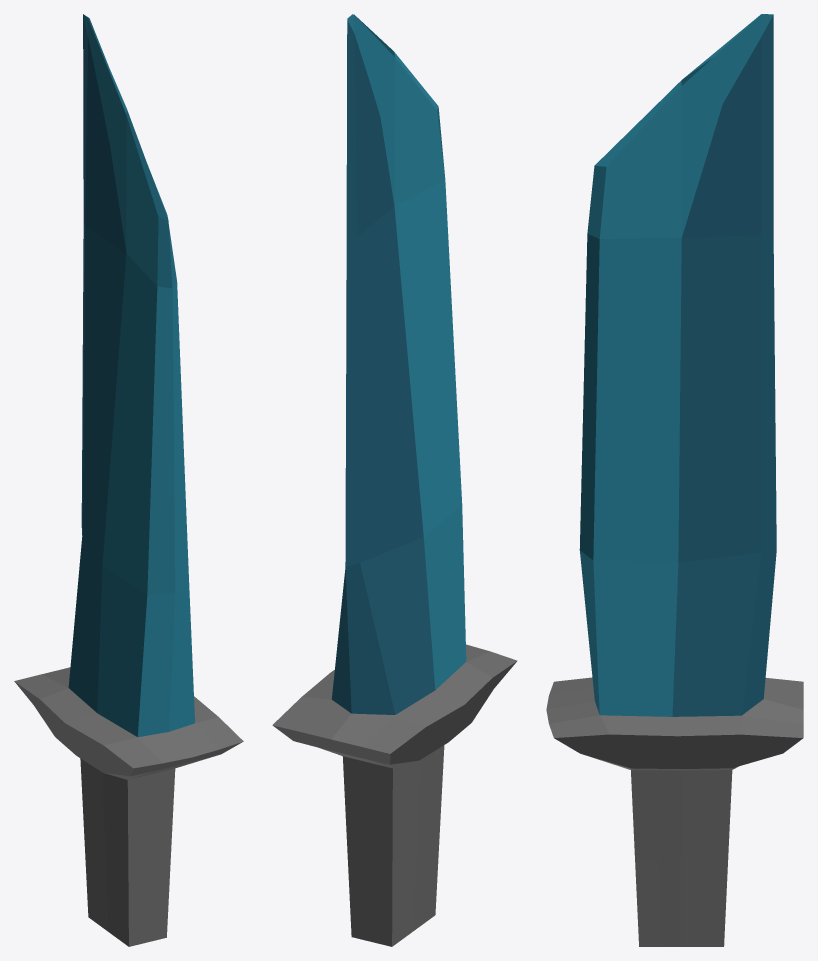
File: Blueswordmodel.fbx
The picture shows the model from 3 angles, left to right: view 1: azimuth 30°, elevation 25°; view 2: azimuth 150°, elevation 25°; view 3: azimuth 270°, elevation 25°; orthographic projection. The views are drawn at different scales.
Visible parts, largest first — view 1: Cube; view 2: Cube; view 3: Cube.
Boxes of the visible parts, box(x1,y1,x2,y2) form: Cube: box(14, 14, 243, 946); Cube: box(272, 14, 517, 946); Cube: box(546, 14, 803, 946).
Size of the model in its own units: 134 by 906 by 229.
